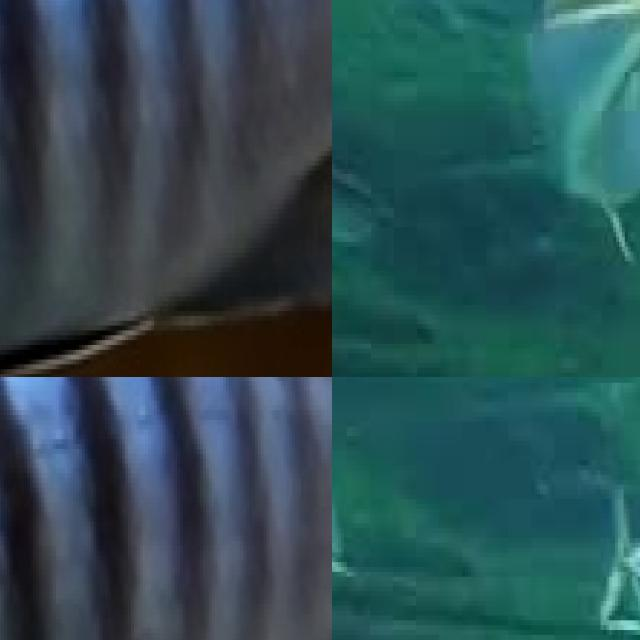fish: (0, 0, 332, 377), (0, 555, 332, 640)
